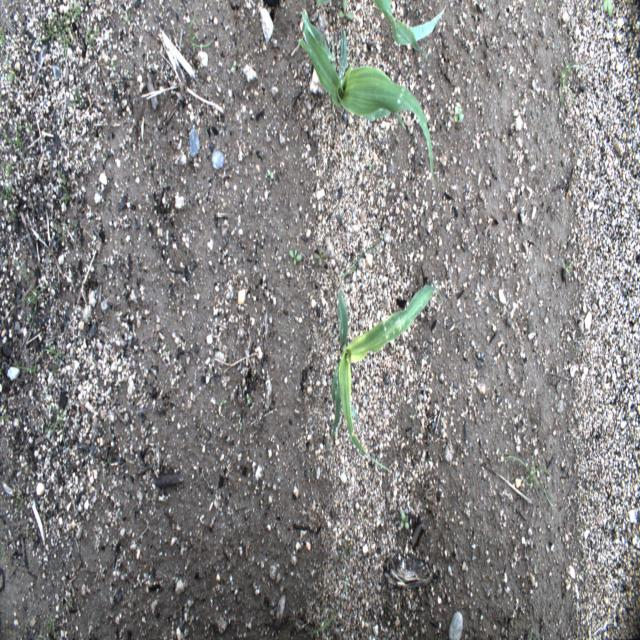crop: (296, 12, 436, 182), (323, 283, 437, 470), (373, 0, 446, 59)
weed: (497, 448, 554, 508), (292, 584, 344, 638), (39, 5, 93, 52), (342, 228, 388, 282), (15, 262, 49, 330), (41, 386, 74, 456), (556, 52, 588, 108), (184, 12, 216, 58), (0, 124, 29, 168), (1, 159, 19, 227), (55, 154, 77, 207), (12, 349, 41, 385), (49, 341, 70, 377), (9, 486, 30, 520), (332, 534, 354, 563), (69, 85, 88, 113), (561, 244, 574, 280), (335, 1, 355, 24), (286, 245, 302, 271), (40, 614, 57, 638), (5, 60, 18, 90), (451, 101, 466, 126), (601, 1, 616, 20), (398, 512, 411, 532), (315, 248, 328, 267), (64, 595, 75, 615), (1, 26, 7, 55), (219, 394, 229, 411), (246, 389, 254, 407), (109, 58, 117, 74), (315, 0, 331, 8), (266, 168, 275, 182), (230, 58, 237, 74), (367, 158, 373, 174)
